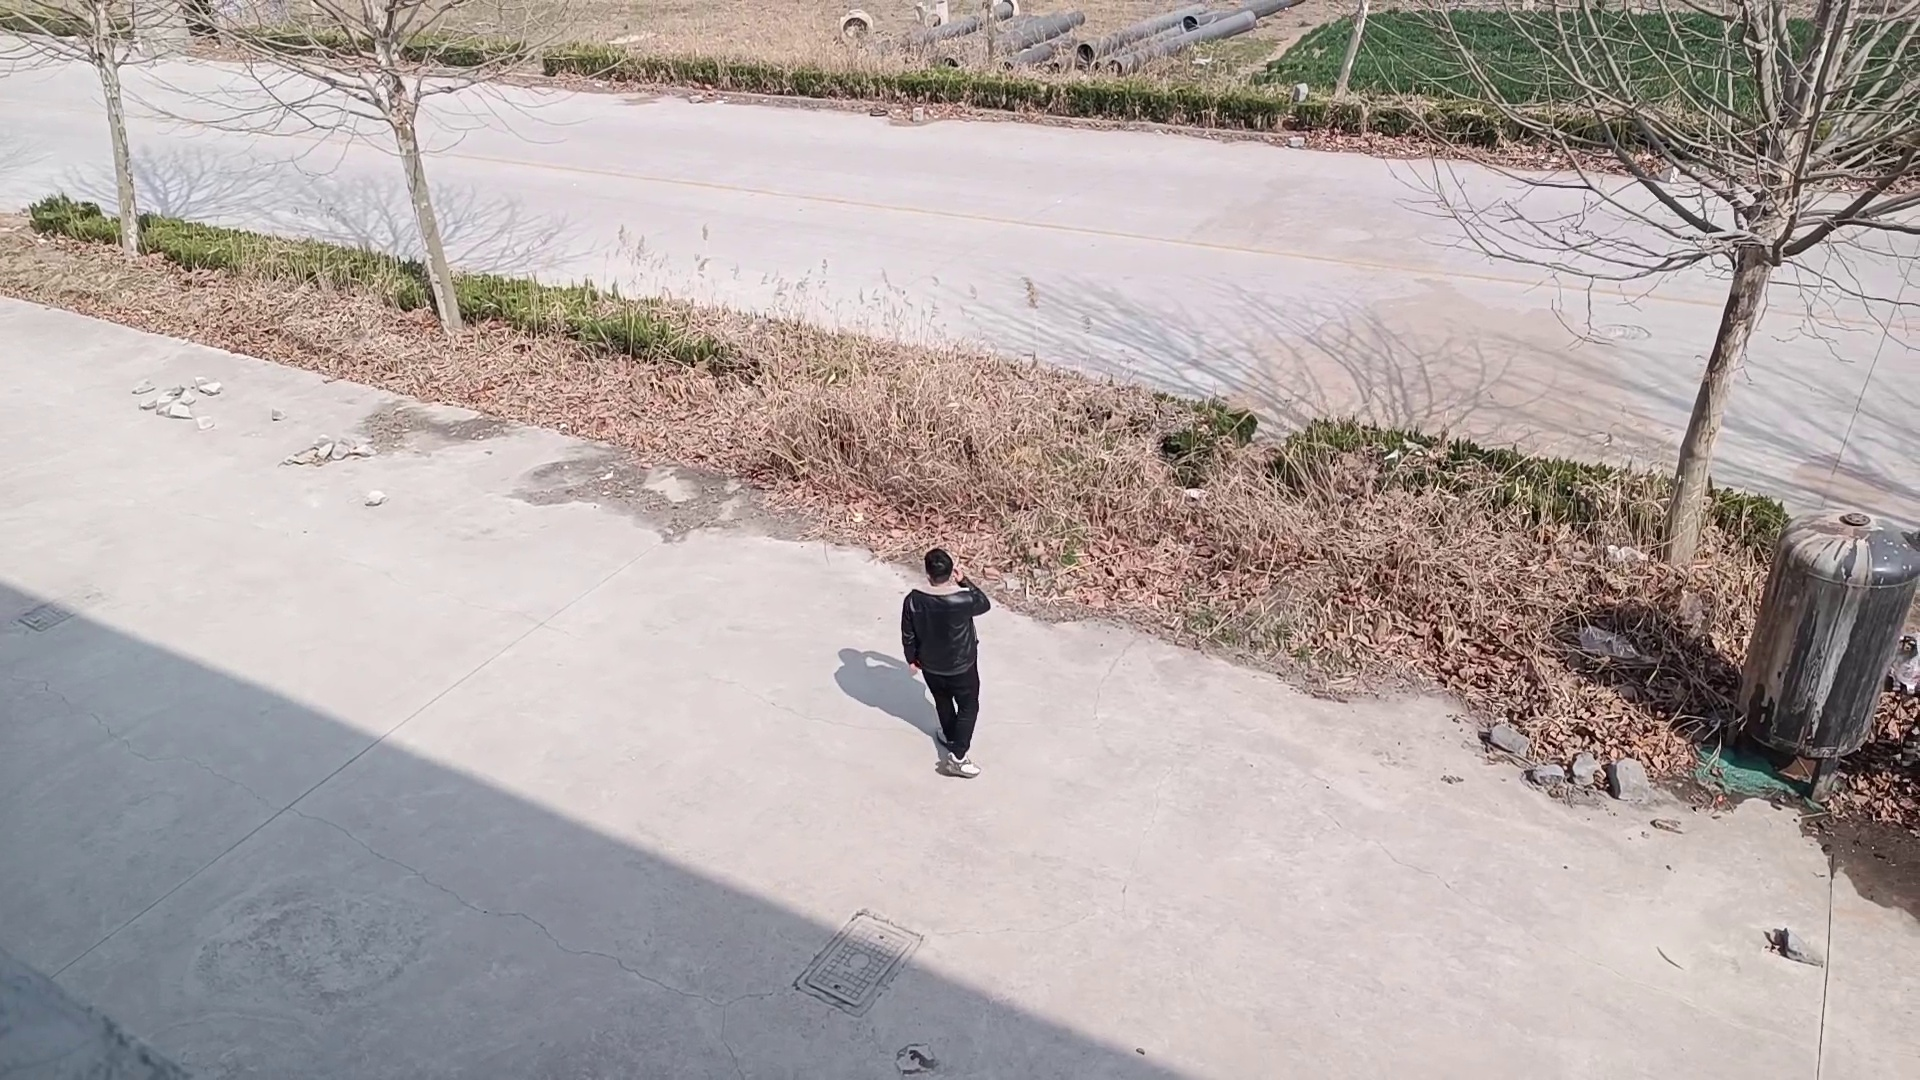phone: (911, 542, 976, 599)
